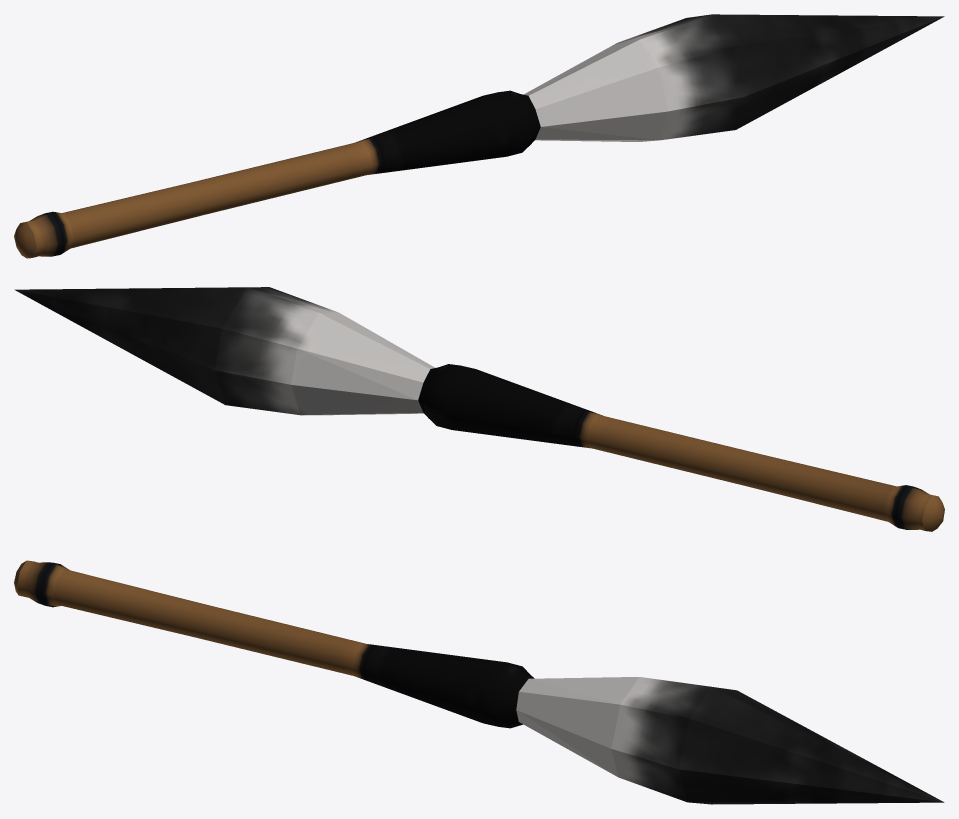
File: maobi.FBX
3 views of the same model, one above another, from view 1: azimuth 30°, elevation 25°; view 2: azimuth 150°, elevation 25°; view 3: azimuth 330°, elevation 25° (orthographic).
Parts seen in each view (by area): view 1: maobi; view 2: maobi; view 3: maobi.
Boxes of the visible parts, x1,y1,x2,y2 form: maobi: (14, 14, 944, 258); maobi: (14, 287, 944, 531); maobi: (14, 560, 944, 804).
Size of the model in its own units: 1.35 by 0.1637 by 0.1637.
